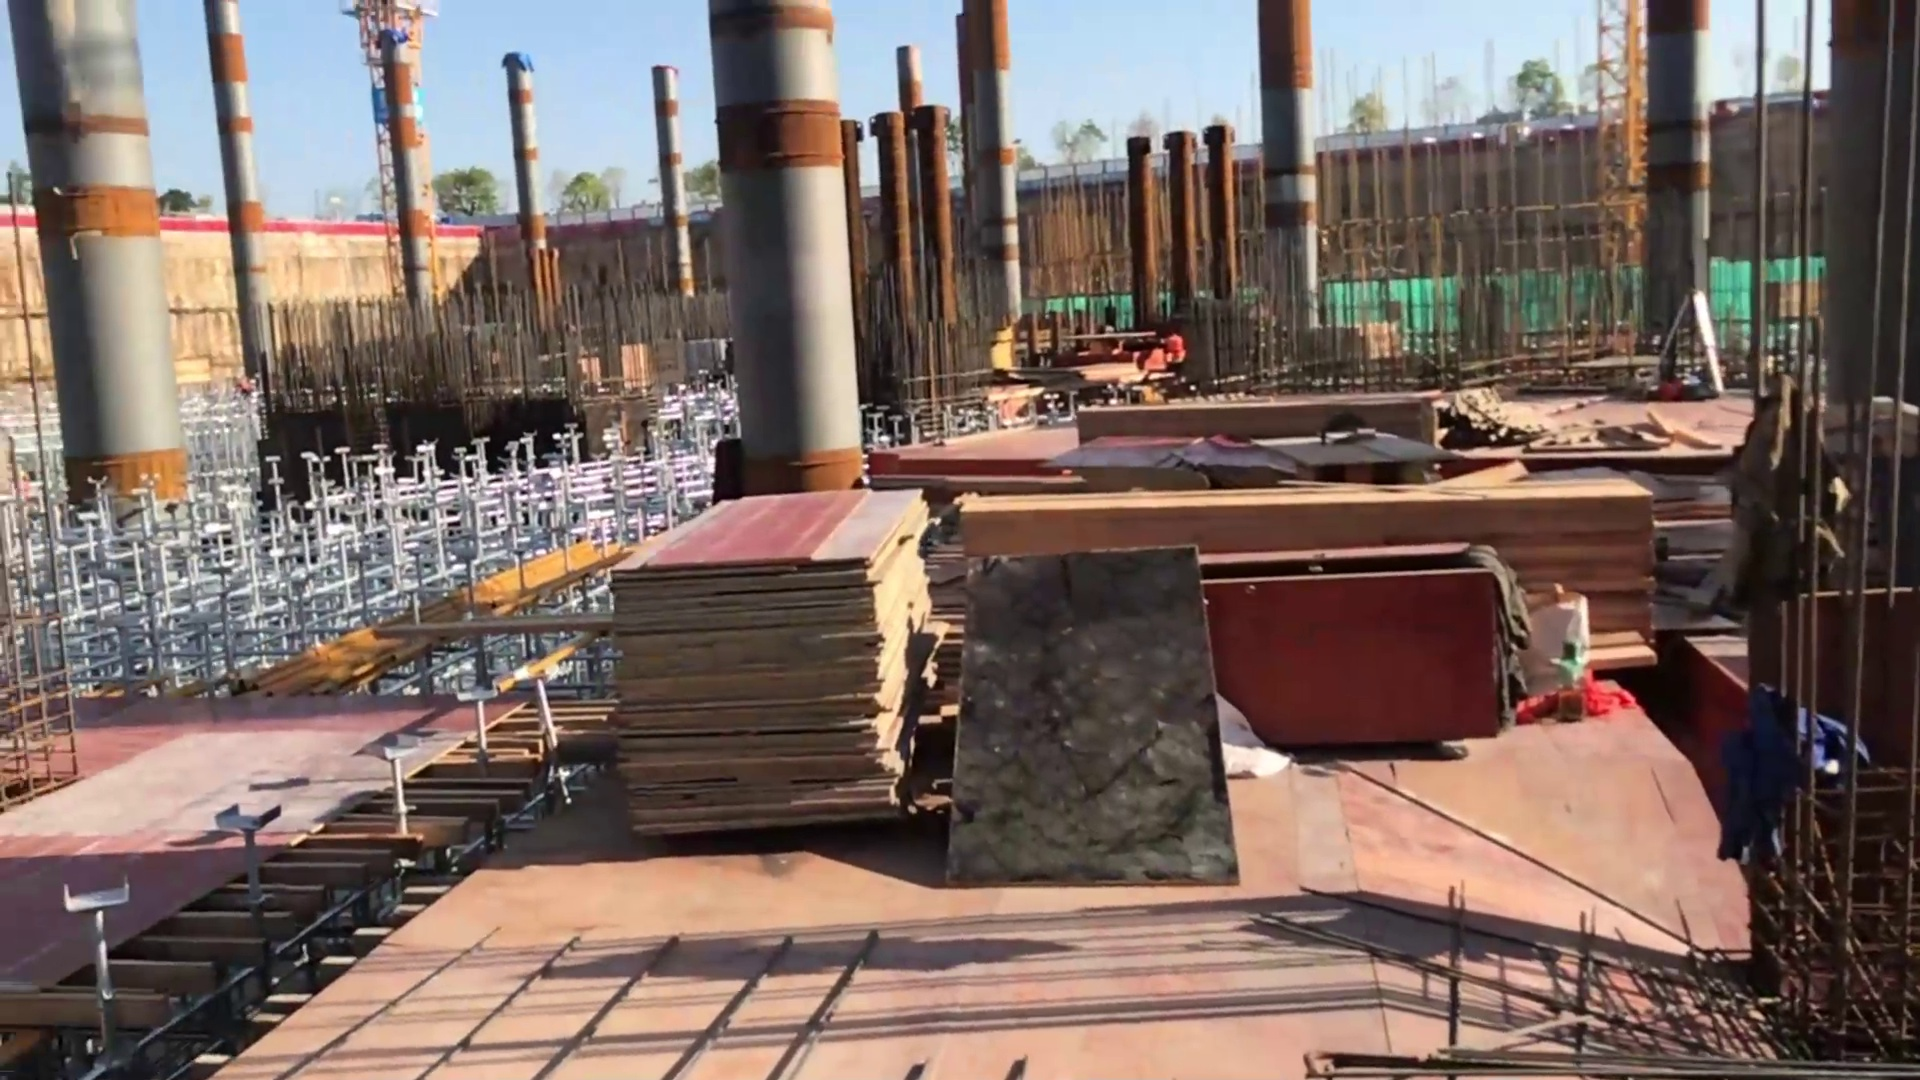board: (620, 491, 936, 819)
wood: (953, 488, 1665, 666)
